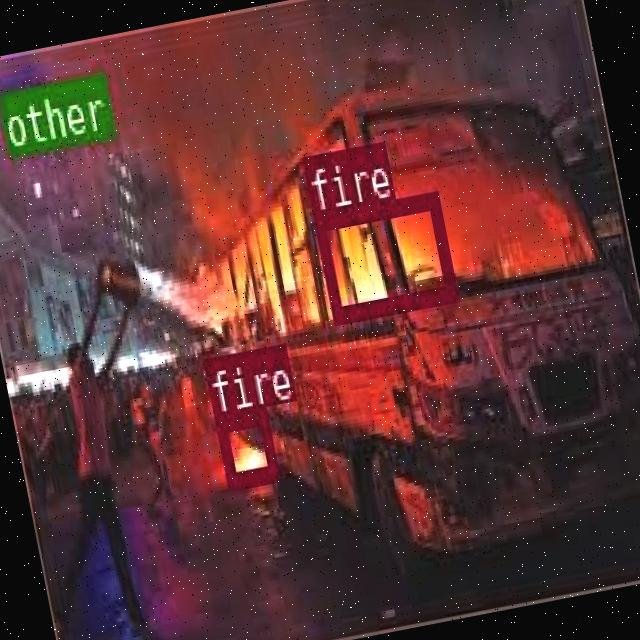fire: (312, 188, 456, 322), (212, 406, 276, 486)
